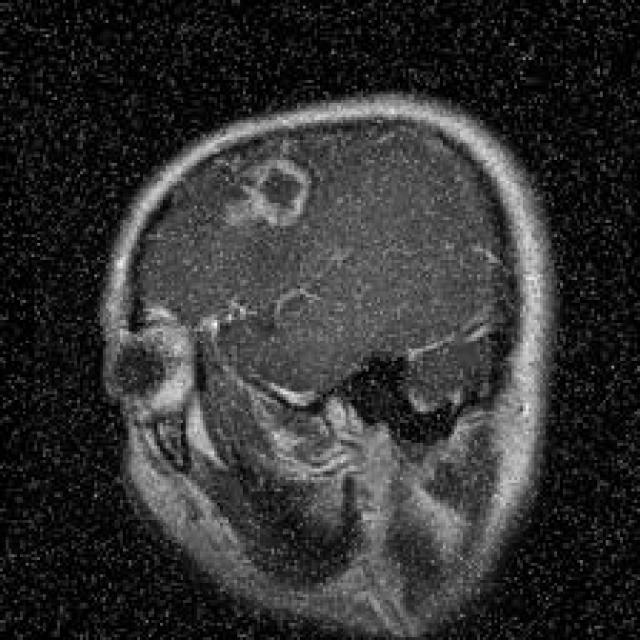glioma_tumor: (208, 129, 329, 249)
